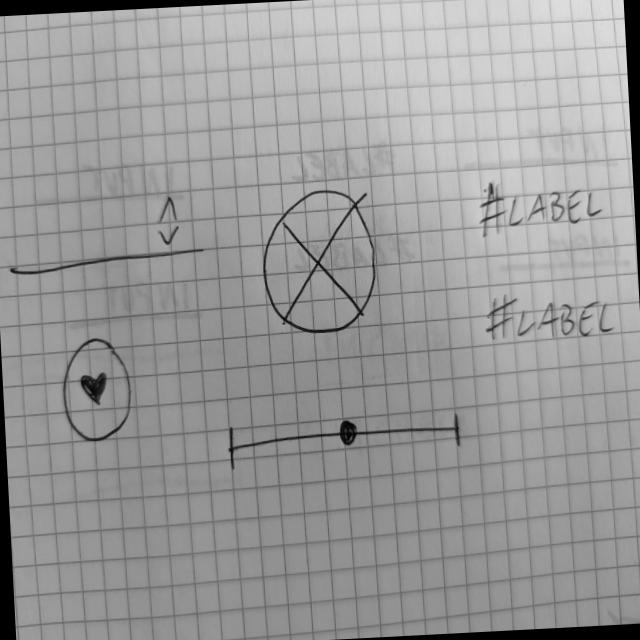icon-button: (58, 336, 137, 447)
image: (259, 186, 382, 340)
label: (475, 171, 608, 244)
number-input: (5, 189, 207, 279)
slider: (225, 410, 468, 472)
